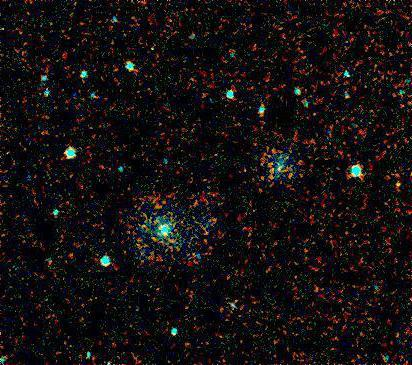star: (383, 165, 412, 195)
